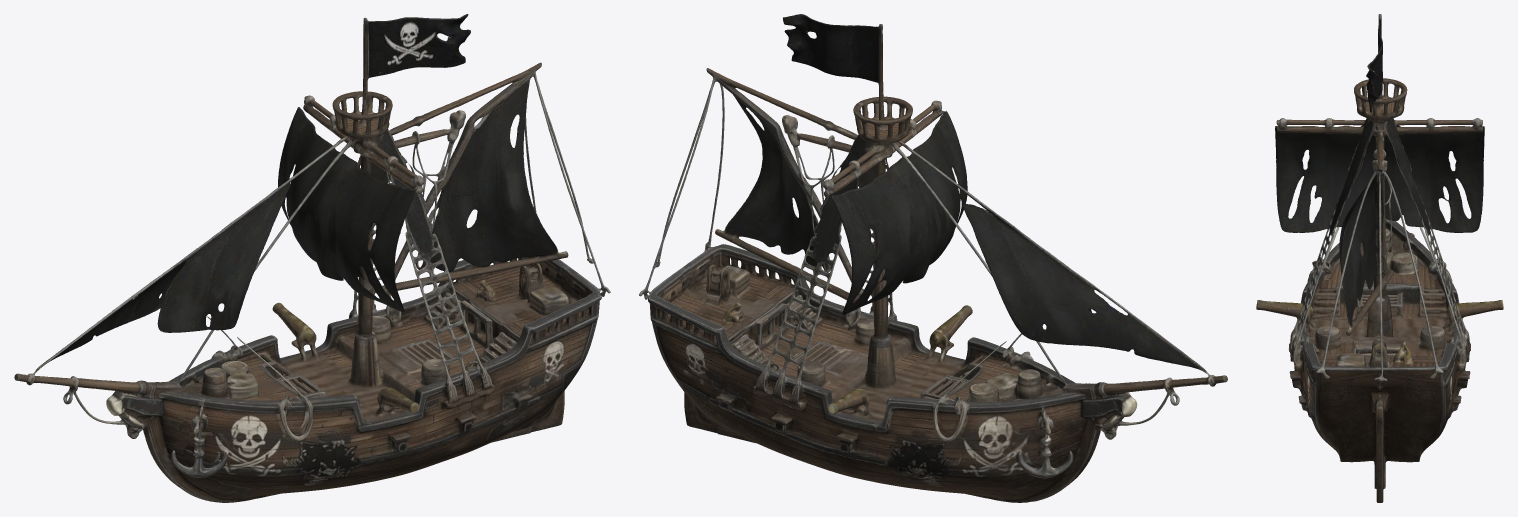
Rendered from Starter Sloop.glb.
The picture shows the model from 3 angles, left to right: view 1: azimuth 30°, elevation 25°; view 2: azimuth 150°, elevation 25°; view 3: azimuth 270°, elevation 25°; orthographic projection. The views are drawn at different scales.
Bounding box in the file's own units: 1.9 × 1.42 × 0.7874.
1 material, 1 textured.
